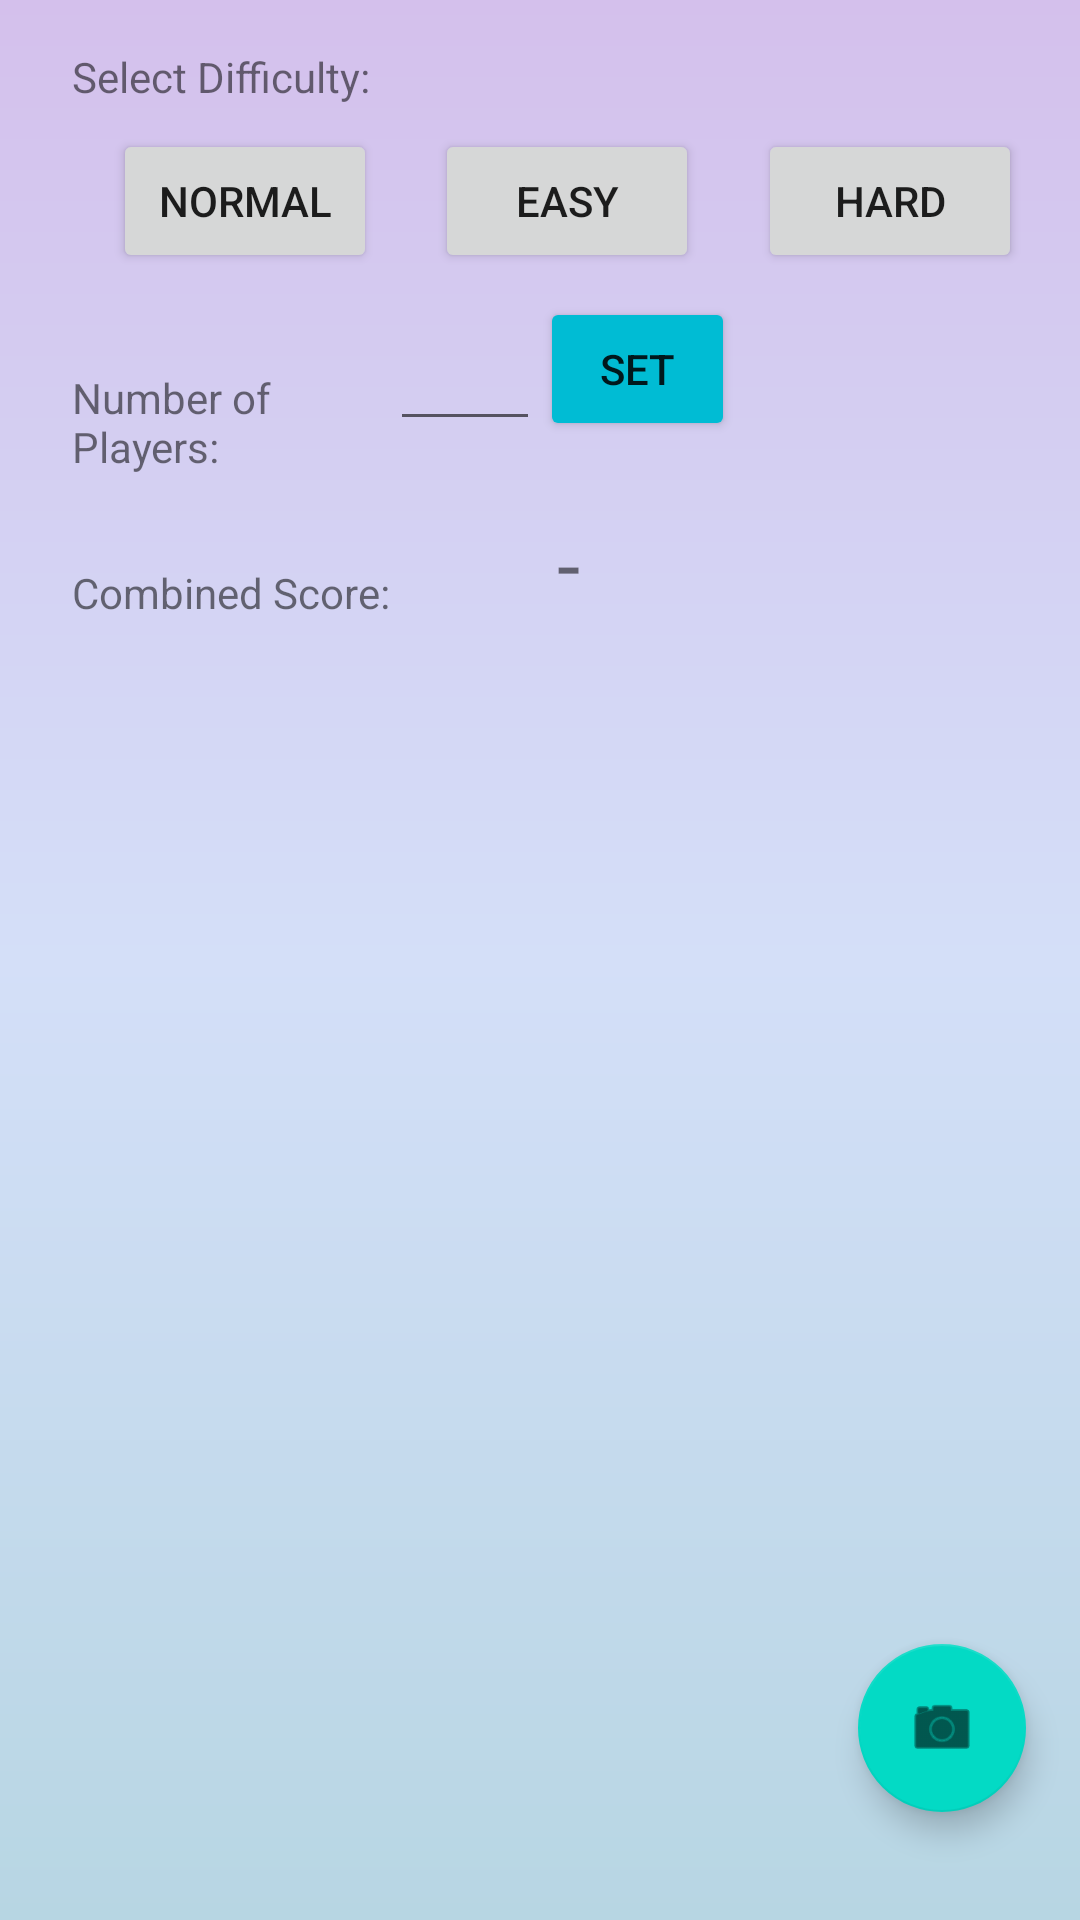

Icons on this 1080*1920 Android screen, each with its box as Rect(x1, y1, x2, y2):
camera: Rect(858, 1644, 1026, 1812)
